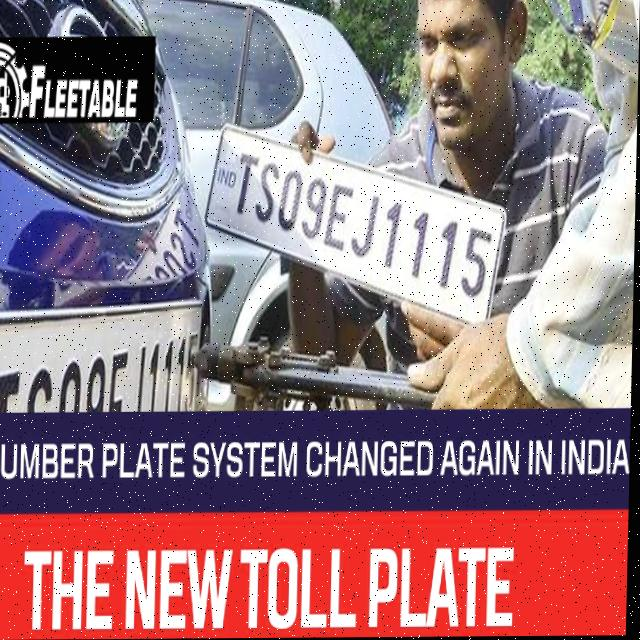plate: (203, 118, 509, 329)
